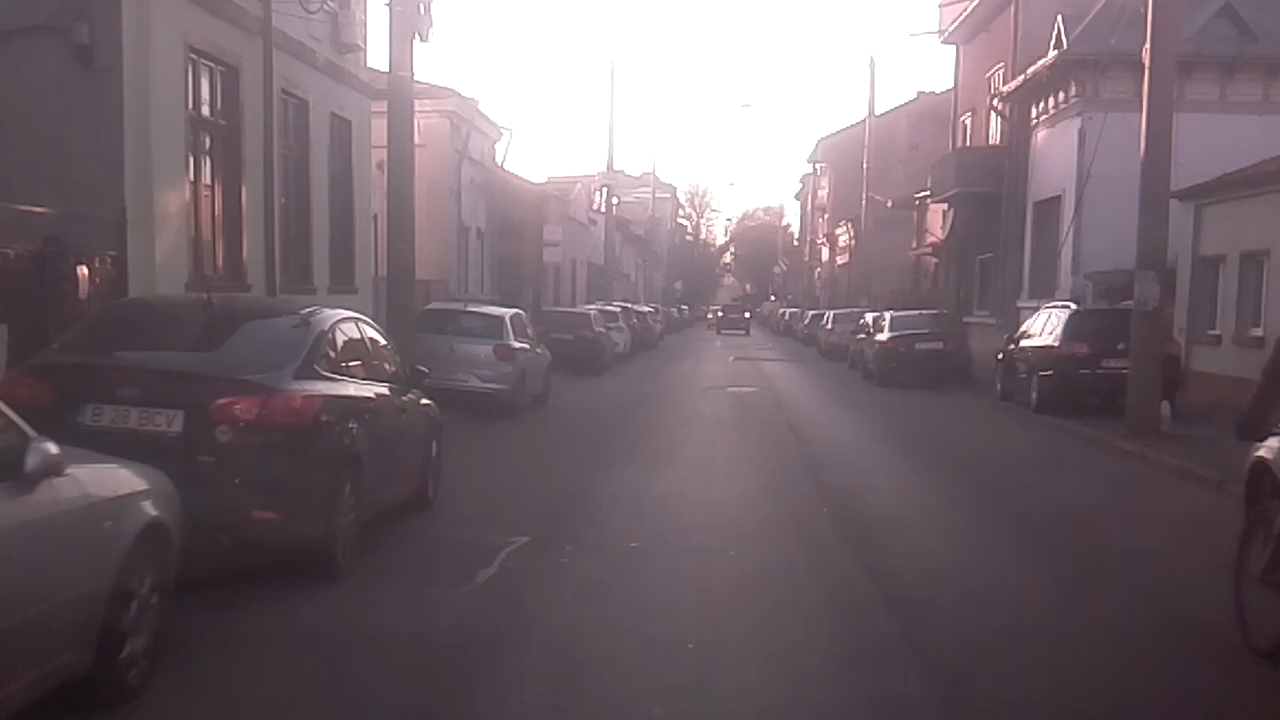license-plate: (73, 395, 188, 438)
